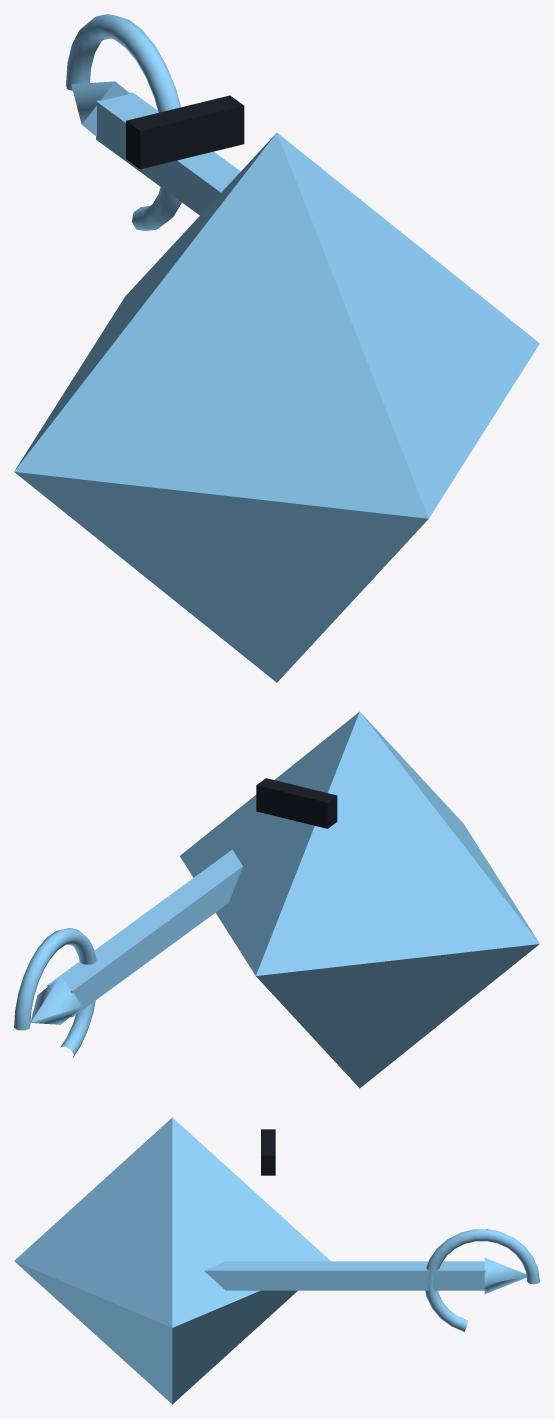
File: enemy-playground-hookblade-auditor-v1.glb
The picture shows the model from 3 angles, top to bottom: view 1: azimuth 30°, elevation 25°; view 2: azimuth 150°, elevation 25°; view 3: azimuth 270°, elevation 25°; orthographic projection. The views are drawn at different scales.
Parts seen in each view (by area): view 1: Hookblade Auditor; view 2: Hookblade Auditor; view 3: Hookblade Auditor.
Boxes of the visible parts, x1,y1,x2,y2 form: Hookblade Auditor: (14, 14, 539, 682); Hookblade Auditor: (14, 711, 539, 1088); Hookblade Auditor: (14, 1117, 539, 1404).
Bounding box in the file's own units: 1.72 × 1.72 × 2.86.
